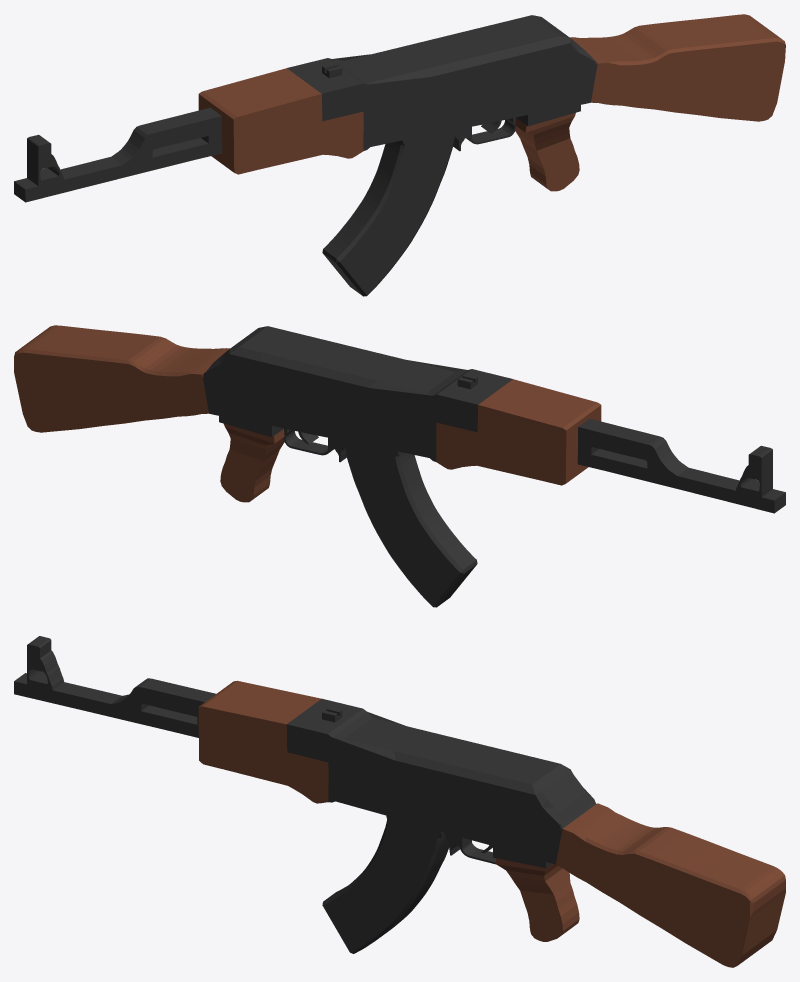
File: ak47.finished.fbx
The picture shows the model from 3 angles, top to bottom: view 1: azimuth 30°, elevation 25°; view 2: azimuth 150°, elevation 25°; view 3: azimuth 330°, elevation 25°; orthographic projection.
Parts seen in each view (by area): view 1: Ammo; view 2: Ammo; view 3: Ammo.
Part boxes in pixels (box(x1,y1,x2,y2)): Ammo: box(14, 14, 785, 296); Ammo: box(14, 325, 785, 607); Ammo: box(14, 636, 785, 967).
Bounding box in the file's own units: 468 × 138 × 37.95.
